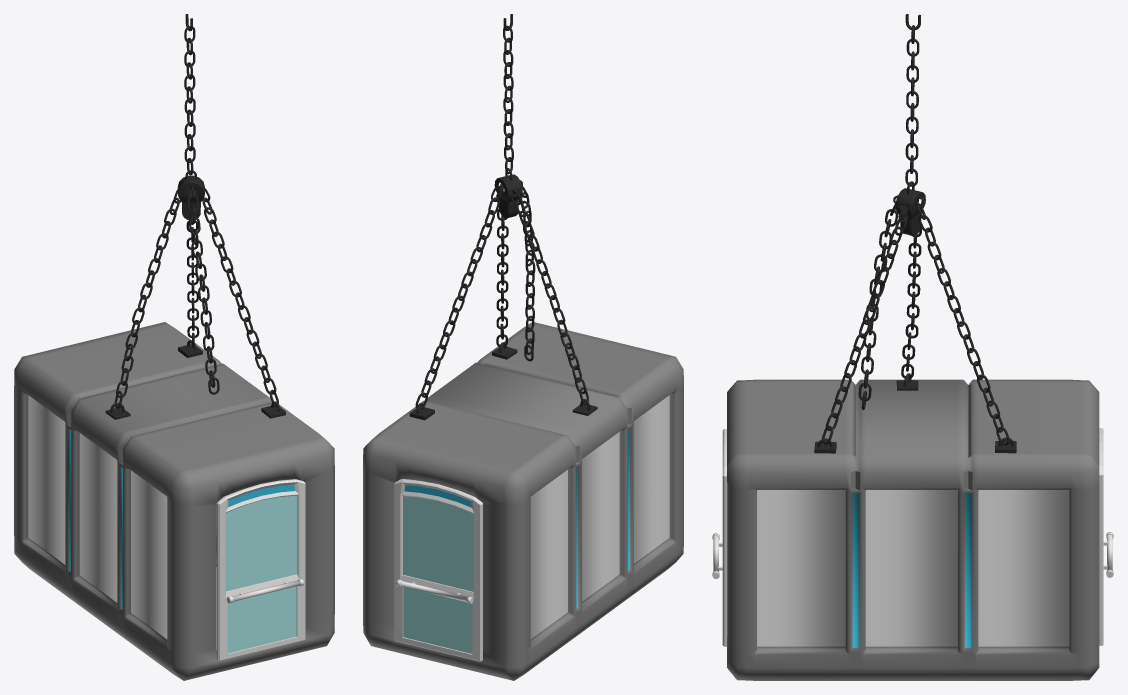
File: Nacelle.fbx
3 views of the same model, side by side, from view 1: azimuth 30°, elevation 25°; view 2: azimuth 150°, elevation 25°; view 3: azimuth 270°, elevation 25° (orthographic). The views are drawn at different scales.
Parts seen in each view (by area): view 1: nacelle.007, Porte01; view 2: nacelle.007, Porte02; view 3: nacelle.007, Porte01, Porte02.
Boxes of the visible parts, x1,y1,x2,y2 form: nacelle.007: (14,14,334,680); Porte01: (216,479,305,661); nacelle.007: (363,14,683,680); Porte02: (394,479,482,661); nacelle.007: (727,14,1099,680); Porte01: (712,429,727,646); Porte02: (1099,428,1113,645).
Bounding box in the file's own units: 283 × 988 × 563.
